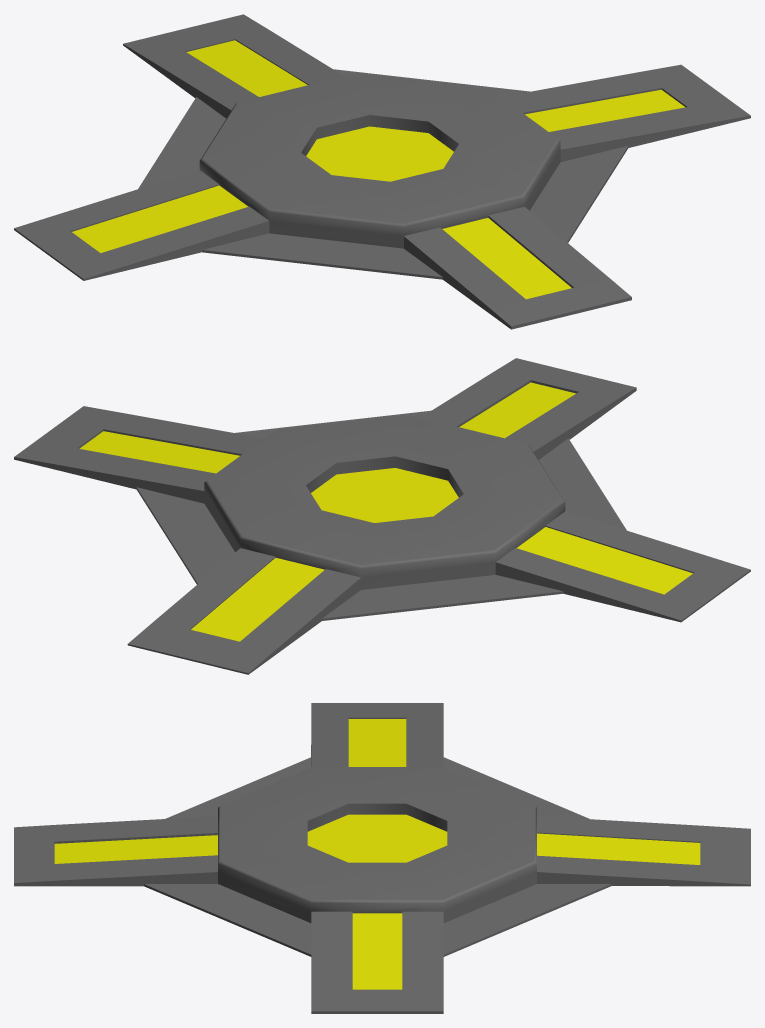
Rendered from SM_ItemSpawnPoint.fbx.
The picture shows the model from 3 angles, top to bottom: view 1: azimuth 30°, elevation 25°; view 2: azimuth 150°, elevation 25°; view 3: azimuth 270°, elevation 25°; orthographic projection. The views are drawn at different scales.
Parts seen in each view (by area): view 1: SM_ItemSpawnPoint_01; view 2: SM_ItemSpawnPoint_01; view 3: SM_ItemSpawnPoint_01.
Part boxes in pixels (x1,y1,x2,y2): SM_ItemSpawnPoint_01: (14, 14, 750, 329); SM_ItemSpawnPoint_01: (14, 358, 750, 674); SM_ItemSpawnPoint_01: (14, 703, 750, 1013).
Bounding box in the file's own units: 273 × 10.32 × 275.
